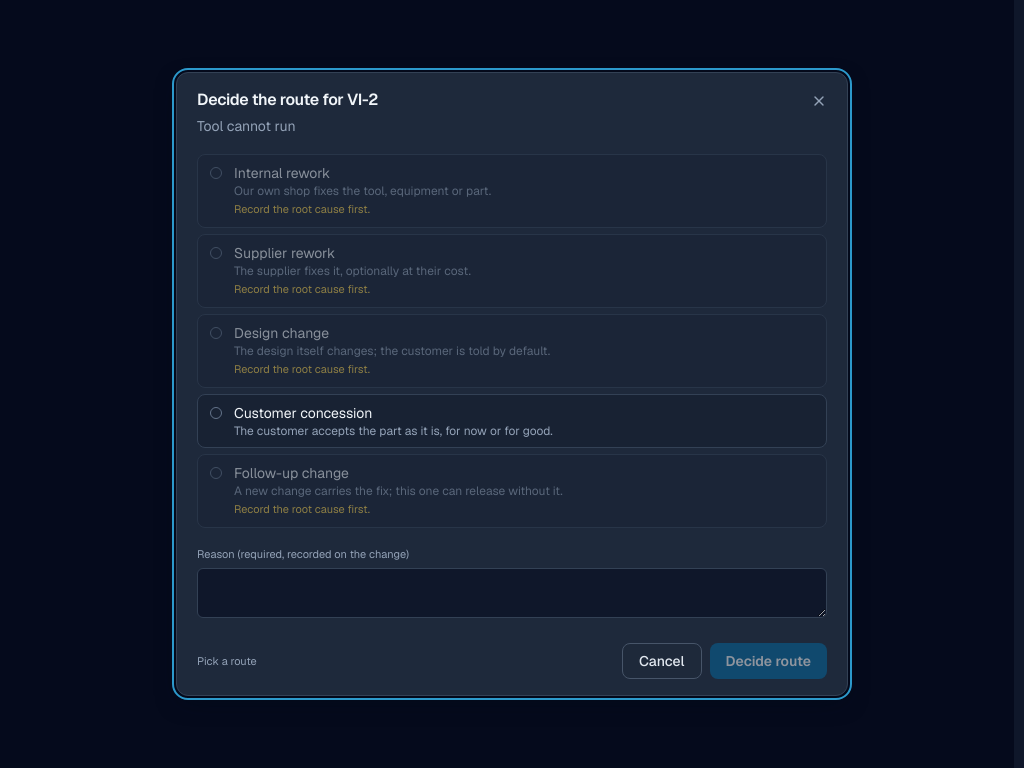
Test: route dialog › a concession says the customer mail is required and needs no action or root cause
Later steps or results of the test are not shown.
Check: the radio button with test id "route-option-internal_rework" is disabled, box [197,154,827,228]
Click the radio button with test id "route-option-customer_concession". click: (512, 421)
box: [197,394,827,448]
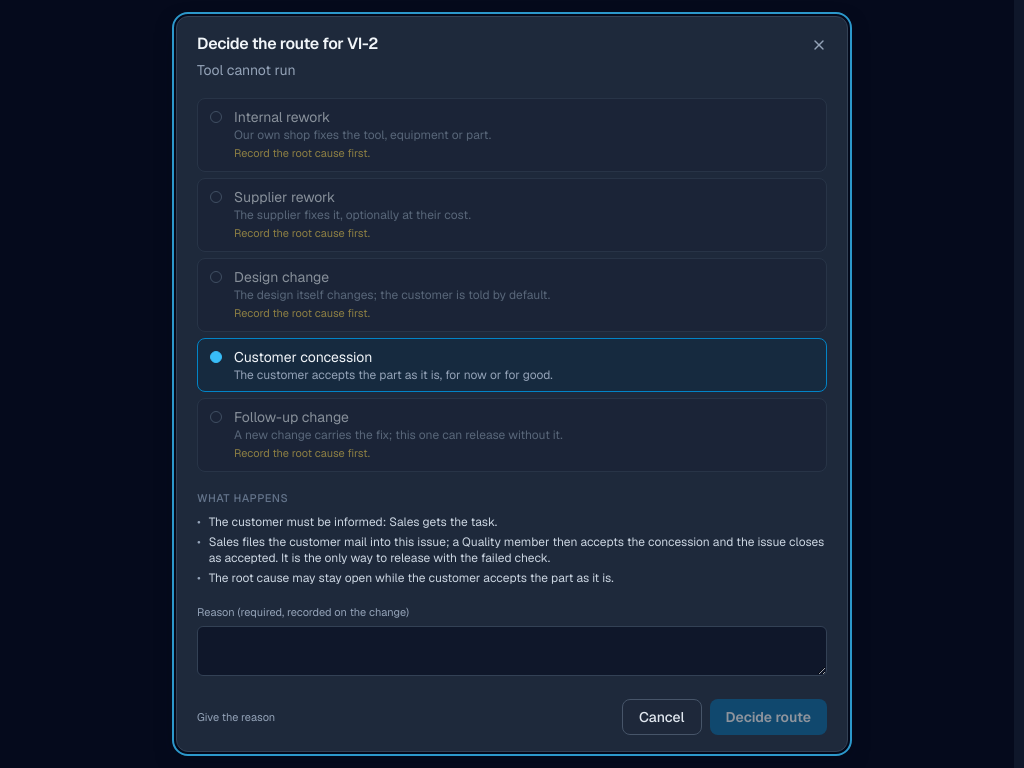
Check: the element with test id "route-consequences" shows "customer mail into this issue; a Quality member", box [209,534,824,566]
